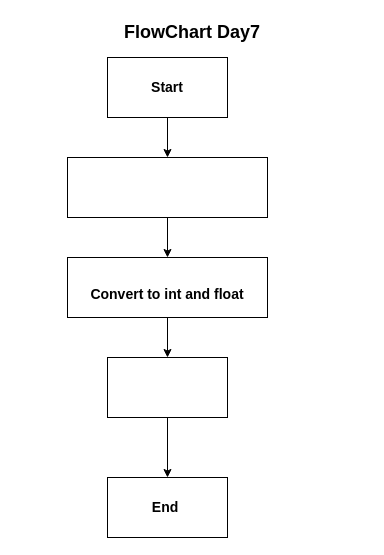
The diagram is 384 pixels wide and 555 high, and some of its shapes have lost their labels. The shapes that lost their labels are listed below. From the top down, each one's box as (x1, y1, x2, y2) in pixels, then its label:
(66, 156, 268, 218): Input name and age
(106, 356, 228, 418): Print output
